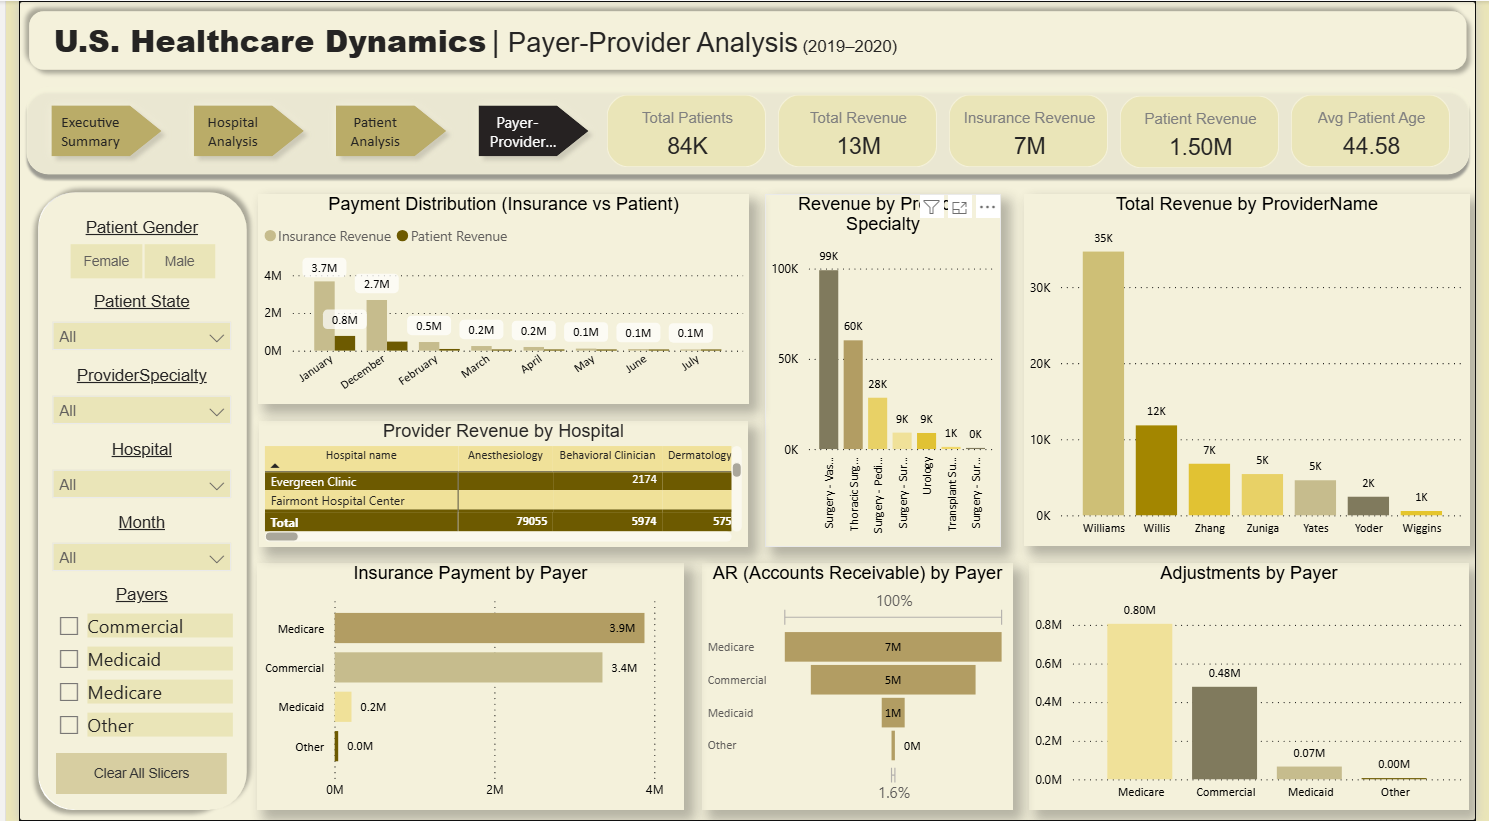

What the dashboard file says about the page in this screenshot:
{"tool":"powerbi","page":{"name":"Payer-Provider Analysis","canvas":[1280,720],"ordinal":3},"visuals":[{"type":"shape","box":[0,0,1280,69.4],"z":0},{"type":"shape","box":[8,159.2,188.6,560.4],"z":1000},{"type":"shape","box":[8,159.2,201,560.4],"z":2000},{"type":"shape","box":[0,68.5,1280.2,90.4],"z":3000},{"type":"cardVisual","title":"Total Patients","fields":{"Data":["Healthcare_dataset.Total Patients"]},"box":[511,79,150.1,70.2],"z":4000},{"type":"cardVisual","fields":{"Data":["Healthcare_dataset.Total Revenue"]},"box":[661.2,79,150.1,70.2],"z":5000},{"type":"cardVisual","fields":{"Data":["Healthcare_dataset.Insurance Revenue"]},"box":[811.3,79,150.1,70.2],"z":6000},{"type":"cardVisual","fields":{"Data":["Healthcare_dataset.Patient Revenue"]},"box":[961.5,79.9,150.1,70.2],"z":7000},{"type":"cardVisual","fields":{"Data":["Healthcare_dataset.Avg Patient Age"]},"box":[1111.6,79,150.1,70.2],"z":8000},{"type":"shape","box":[0,0,1280,69.3],"z":9000},{"type":"textbox","box":[25.8,10.7,773.3,47.1],"z":10000},{"type":"pageNavigator","box":[19.6,82.7,491.9,63.2],"z":11000},{"type":"actionButton","box":[32.9,660,150.3,36.5],"z":12000},{"type":"slicer","title":"Patient Gender","fields":{"Values":["Healthcare_dataset.PatientGender"]},"box":[19.6,190.4,177,59.6],"z":13000},{"type":"slicer","title":"Patient State","fields":{"Values":["Healthcare_dataset.patientState"]},"box":[19.6,255.3,177,60.5],"z":14000},{"type":"slicer","title":"ProviderSpecialty","fields":{"Values":["Healthcare_dataset.ProviderSpecialty"]},"box":[19.6,320.2,177,59.6],"z":15000},{"type":"slicer","title":"Hospital","fields":{"Values":["Healthcare_dataset.Hospital name "]},"box":[19.6,385.2,177,59.6],"z":16000},{"type":"slicer","title":"Month","fields":{"Values":["Healthcare_dataset.Month Name"]},"box":[19.6,449.2,177,59.6],"z":17000},{"type":"slicer","title":"Payers","fields":{"Values":["Healthcare_dataset.PayerName"]},"box":[23.1,512.4,169.9,141.4],"z":18000},{"type":"clusteredBarChart","title":"Insurance Payment by Payer","fields":{"Category":["Healthcare_dataset.PayerName"],"Y":["Healthcare_dataset.Insurance Revenue"]},"box":[209.3,493.5,374.8,217.1],"z":19000},{"type":"lineClusteredColumnComboChart","title":"Payment Distribution (Insurance vs Patient)","fields":{"Category":["Healthcare_dataset.Month Name"],"Y":["Healthcare_dataset.Insurance Revenue","Healthcare_dataset.Patient Revenue"]},"box":[209.9,169.5,431.1,183.5],"z":20000},{"type":"clusteredColumnChart","title":"Adjustments by Payer","fields":{"Category":["Healthcare_dataset.PayerName"],"Y":["Sum(Healthcare_dataset.Adjustment)"]},"box":[886.8,493.5,386.3,216.9],"z":21000},{"type":"clusteredColumnChart","fields":{"Category":["Healthcare_dataset.ProviderName"],"Y":["Healthcare_dataset.Total Revenue"]},"box":[882.4,169.5,391.6,309.1],"z":22000},{"type":"columnChart","title":"Revenue by Provider Specialty","fields":{"Category":["Healthcare_dataset.ProviderSpecialty"],"Y":["Healthcare_dataset.Total Revenue"]},"box":[655,169.5,207.2,310],"z":23000},{"type":"funnel","title":"AR (Accounts Receivable) by Payer","fields":{"Category":["Healthcare_dataset.PayerName"],"Y":["Healthcare_dataset.AR"]},"box":[599.7,493.5,273.1,216.9],"z":24000},{"type":"pivotTable","title":"Provider Revenue by Hospital","fields":{"Rows":["Healthcare_dataset.Hospital name "],"Columns":["Healthcare_dataset.ProviderSpecialty"],"Values":["Sum(Healthcare_dataset.Expenses)"]},"box":[210.7,368.8,429.4,110.6],"z":25000}]}

Visuals, with their boxes in screenshot pixels (x1, y1, x2, y2), scaled from the page's 1280x720 canvas onto the 1489x821 screenshot:
shape: rect(0, 0, 1488, 79)
shape: rect(9, 182, 229, 820)
shape: rect(9, 182, 243, 820)
shape: rect(0, 78, 1488, 181)
"Total Patients" cardVisual: rect(594, 90, 769, 170)
cardVisual - Healthcare_dataset.Total Revenue: rect(769, 90, 944, 170)
cardVisual - Healthcare_dataset.Insurance Revenue: rect(944, 90, 1118, 170)
cardVisual - Healthcare_dataset.Patient Revenue: rect(1118, 91, 1293, 171)
cardVisual - Healthcare_dataset.Avg Patient Age: rect(1293, 90, 1468, 170)
shape: rect(0, 0, 1488, 79)
textbox: rect(30, 12, 930, 66)
pageNavigator: rect(23, 94, 595, 166)
actionButton: rect(38, 753, 213, 794)
"Patient Gender" slicer: rect(23, 217, 229, 285)
"Patient State" slicer: rect(23, 291, 229, 360)
"ProviderSpecialty" slicer: rect(23, 365, 229, 433)
"Hospital" slicer: rect(23, 439, 229, 507)
"Month" slicer: rect(23, 512, 229, 580)
"Payers" slicer: rect(27, 584, 225, 746)
"Insurance Payment by Payer" clusteredBarChart: rect(243, 563, 679, 810)
"Payment Distribution (Insurance vs Patient)" lineClusteredColumnComboChart: rect(244, 193, 746, 403)
"Adjustments by Payer" clusteredColumnChart: rect(1032, 563, 1481, 810)
clusteredColumnChart - Healthcare_dataset.ProviderName x Healthcare_dataset.Total Revenue: rect(1026, 193, 1482, 546)
"Revenue by Provider Specialty" columnChart: rect(762, 193, 1003, 547)
"AR (Accounts Receivable) by Payer" funnel: rect(698, 563, 1015, 810)
"Provider Revenue by Hospital" pivotTable: rect(245, 421, 745, 547)
